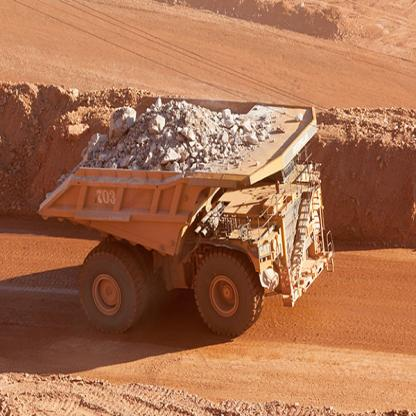dump_truck: (44, 95, 340, 342)
